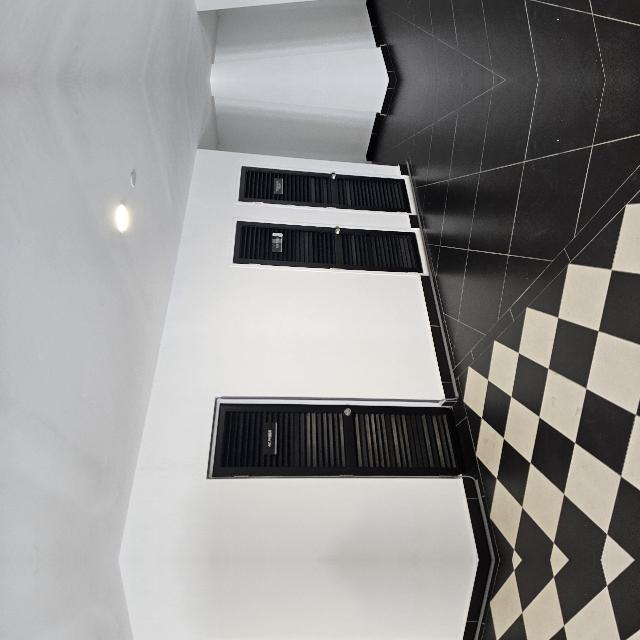door: (80, 286, 162, 544), (286, 310, 340, 508), (350, 314, 392, 496), (80, 576, 161, 640), (285, 612, 340, 640), (350, 623, 392, 640)
